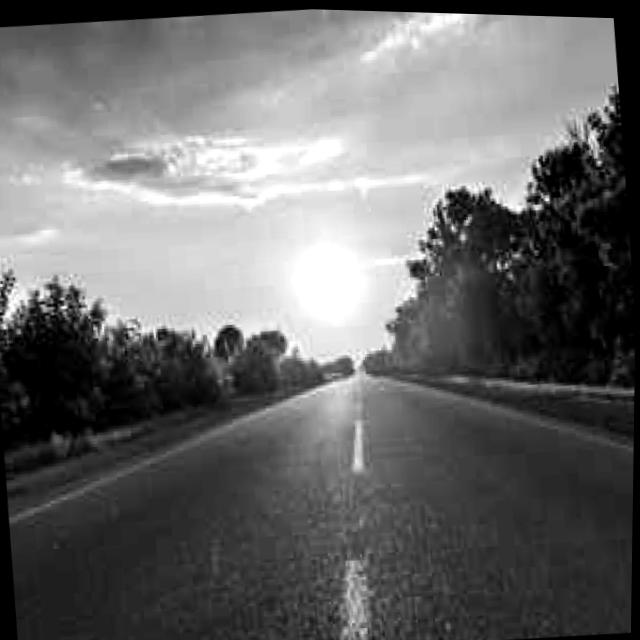cleat: (0, 272, 589, 640)
